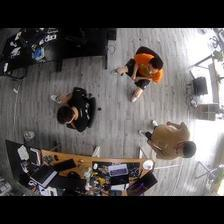normal: (107, 50, 164, 100), (137, 119, 198, 160), (51, 89, 98, 135)
